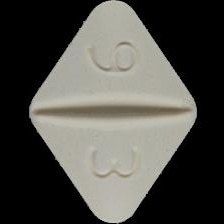0093-7247: (0, 0, 224, 224)
